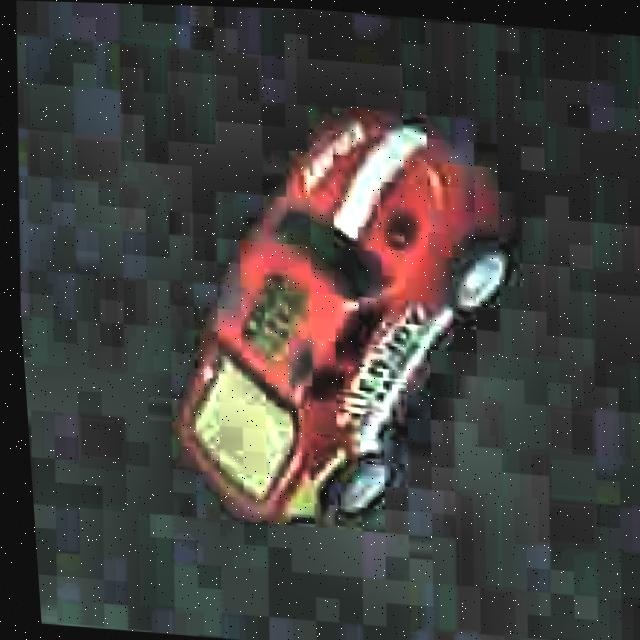car: (140, 88, 542, 548)
